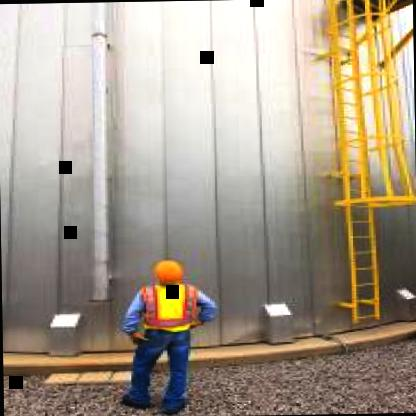helmet: (146, 260, 186, 294)
